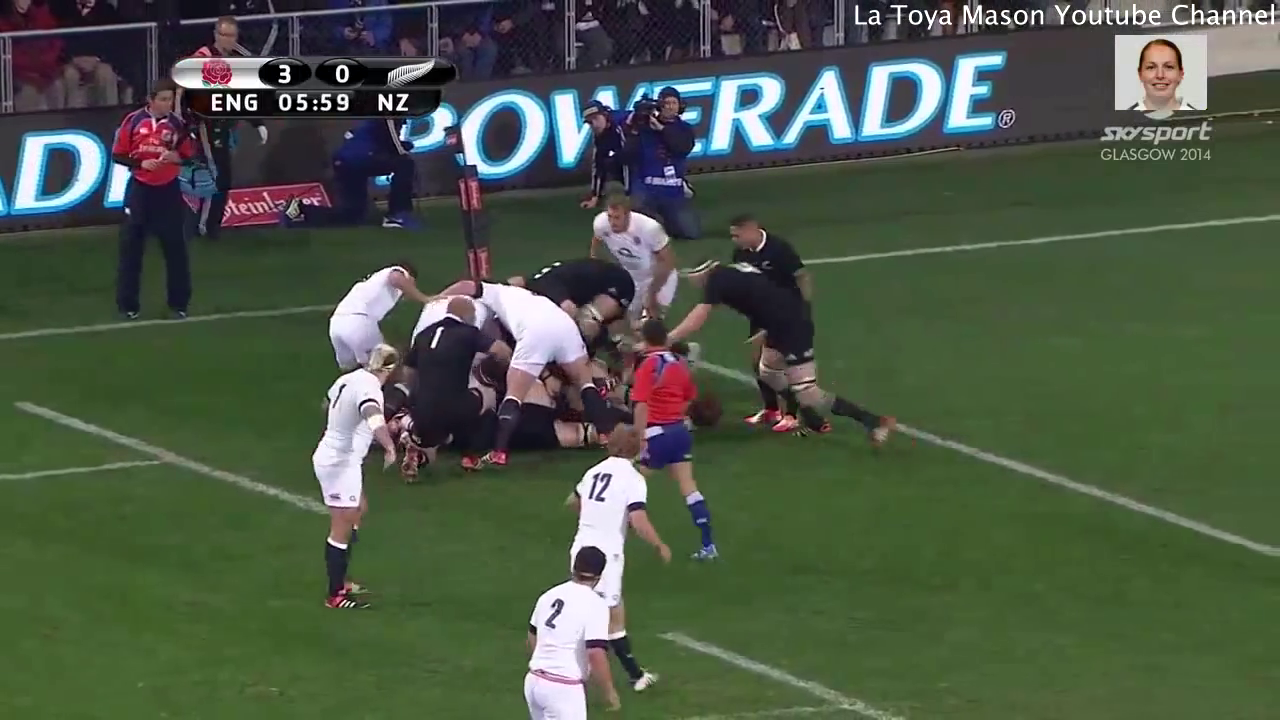player: (677, 245, 893, 456), (312, 341, 404, 620), (486, 266, 592, 472), (629, 328, 721, 564), (519, 544, 631, 720), (402, 291, 493, 476), (557, 416, 655, 555), (313, 250, 407, 366), (531, 248, 631, 339), (592, 195, 673, 296), (721, 216, 805, 276)
ruck: (343, 258, 697, 450)
